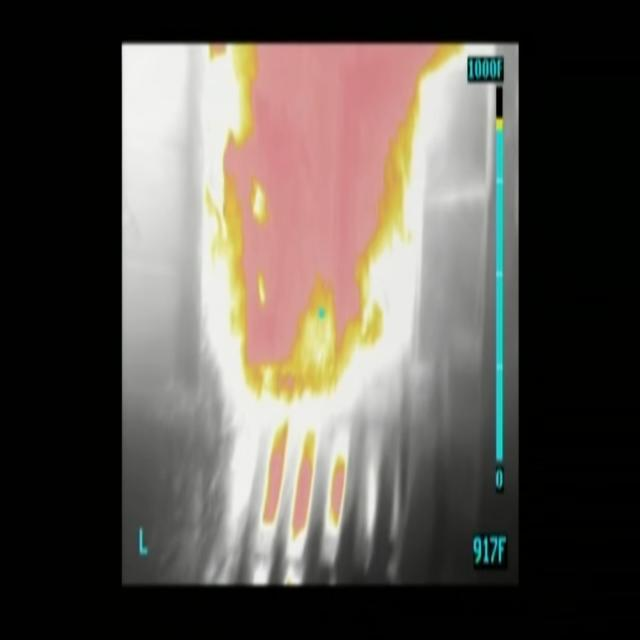fire: (210, 44, 455, 405)
